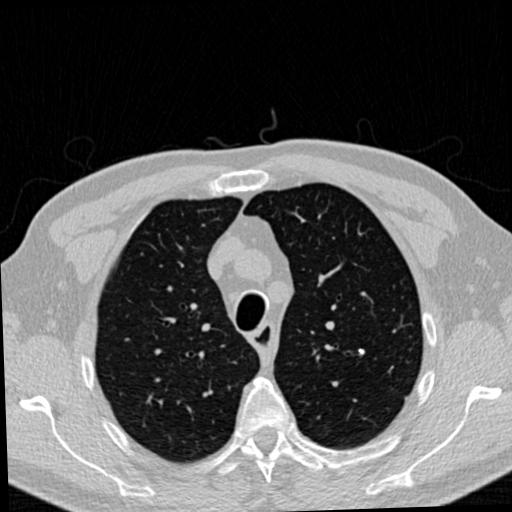nodule: (356, 346, 368, 358)
